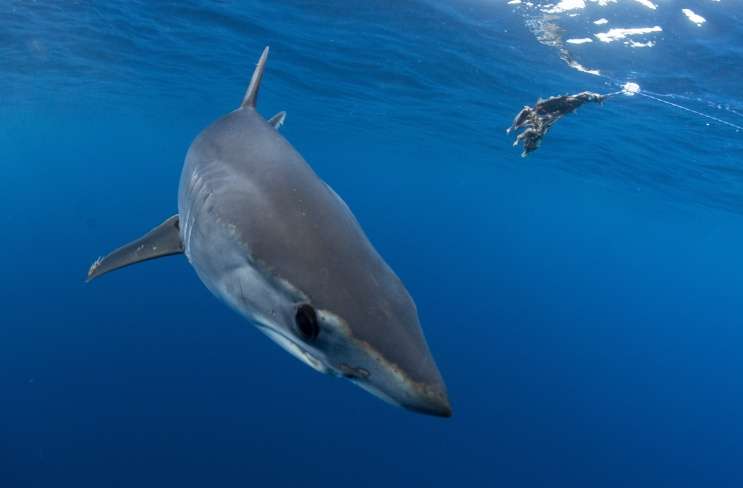Mako: (70, 41, 466, 433)
